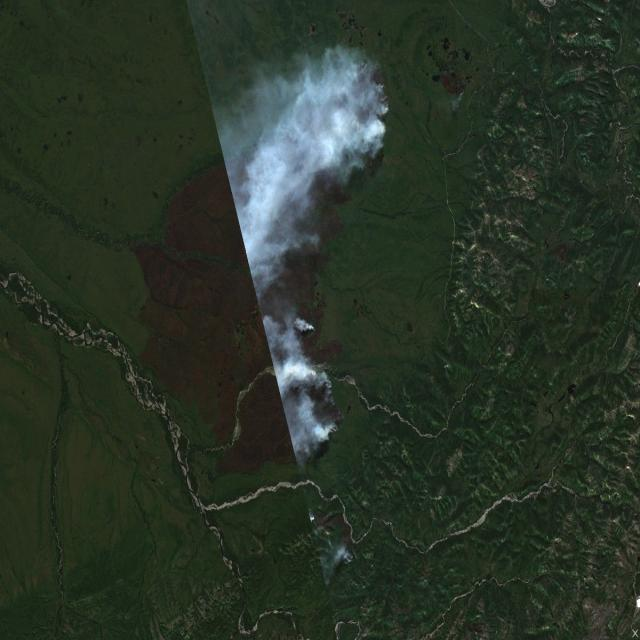fire: (340, 48, 396, 160), (290, 353, 350, 451), (304, 502, 323, 537)
